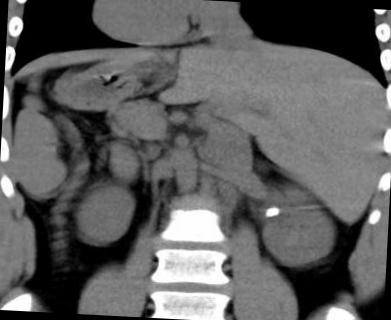Tas_Var: (260, 199, 288, 224)
